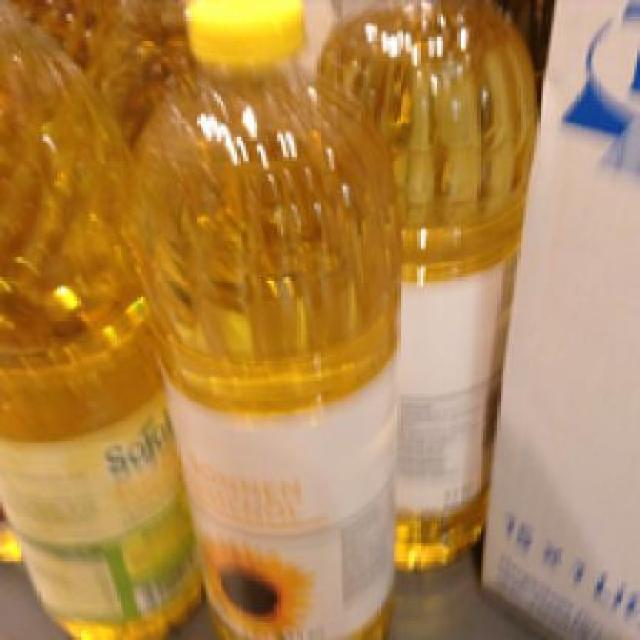Oil: (137, 0, 394, 637), (0, 0, 201, 635), (320, 3, 534, 563)
